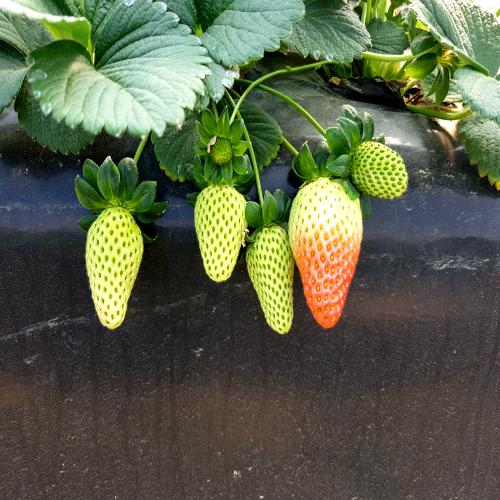partially-ripe: (289, 176, 362, 330)
unripe: (84, 201, 147, 333), (191, 180, 252, 281)
